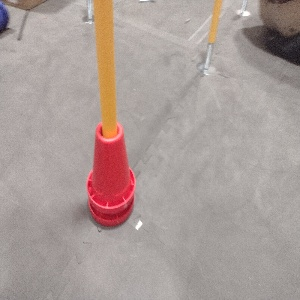Red_2: (81, 116, 135, 229)
